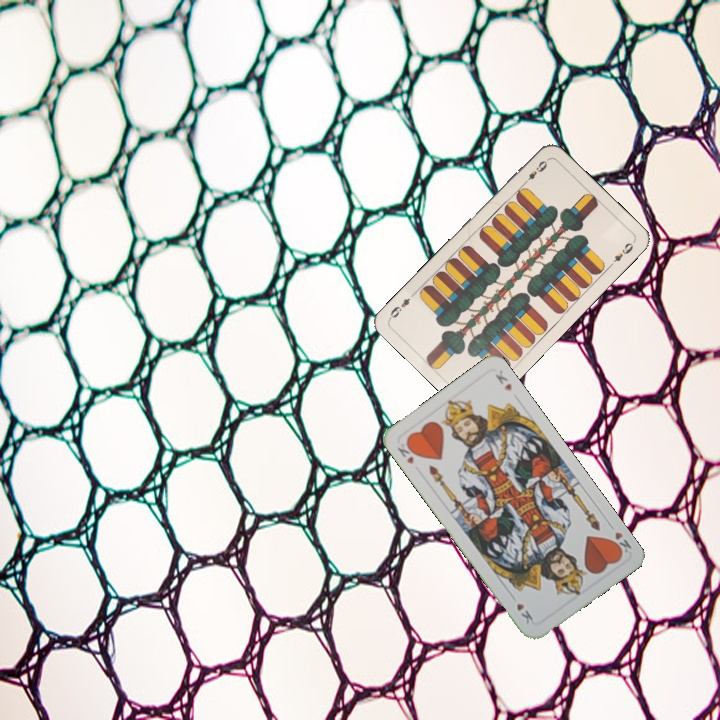E9: (518, 156, 551, 188)
HK: (604, 519, 634, 557), (393, 438, 420, 467)
